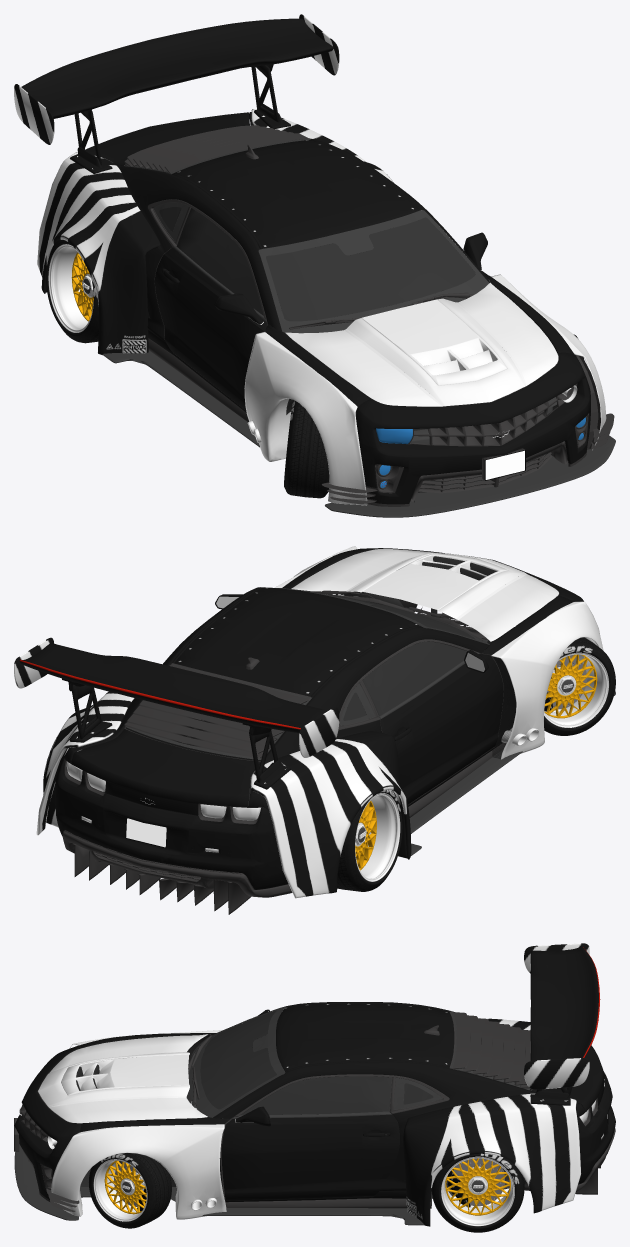
File: model.original.glb
3 renders of one model, top to bottom at view 1: azimuth 30°, elevation 25°; view 2: azimuth 150°, elevation 25°; view 3: azimuth 270°, elevation 25°, orthographic. The views are drawn at different scales.
Visible parts, largest first — view 1: _gltfNode_87, _gltfNode_85, _gltfNode_17, _gltfNode_16, _gltfNode_128, _gltfNode_2, _gltfNode_51, _gltfNode_50, _gltfNode_48, _gltfNode_154, _gltfNode_57, _gltfNode_110 (+15 smaller); view 2: _gltfNode_87, _gltfNode_16, _gltfNode_83, _gltfNode_17, _gltfNode_48, _gltfNode_44, _gltfNode_2, _gltfNode_50, _gltfNode_51, _gltfNode_116, _gltfNode_132, _gltfNode_55 (+20 smaller); view 3: _gltfNode_87, _gltfNode_16, _gltfNode_46, _gltfNode_2, _gltfNode_17, _gltfNode_51, _gltfNode_50, _gltfNode_128, _gltfNode_85, _gltfNode_126, _gltfNode_116, _gltfNode_83 (+16 smaller).
Boxes of the visible parts, x1,y1,x2,y2 form: _gltfNode_87: (119,138,489,412); _gltfNode_85: (265,274,590,504); _gltfNode_17: (21,18,333,173); _gltfNode_16: (37,109,393,355); _gltfNode_128: (159,207,475,321); _gltfNode_2: (244,274,606,505); _gltfNode_51: (346,298,525,406); _gltfNode_50: (285,282,558,406); _gltfNode_48: (154,247,267,410); _gltfNode_154: (102,350,615,517); _gltfNode_57: (367,360,588,506); _gltfNode_110: (153,202,488,334); _gltfNode_87: (119,587,494,806); _gltfNode_16: (36,691,411,898); _gltfNode_83: (55,698,382,889); _gltfNode_17: (19,643,328,789); _gltfNode_48: (380,653,503,804); _gltfNode_44: (71,727,260,814); _gltfNode_2: (274,546,603,759); _gltfNode_50: (291,549,558,641); _gltfNode_51: (348,553,525,618); _gltfNode_116: (124,664,309,758); _gltfNode_132: (362,641,466,716); _gltfNode_55: (62,830,292,897); _gltfNode_87: (212,1002,532,1202); _gltfNode_16: (403,1018,581,1226); _gltfNode_46: (221,1114,399,1200); _gltfNode_2: (51,1030,226,1219); _gltfNode_17: (530,946,598,1105); _gltfNode_51: (38,1052,189,1106); _gltfNode_50: (49,1034,207,1123); _gltfNode_128: (200,1010,433,1109); _gltfNode_85: (14,1033,230,1199); _gltfNode_126: (240,1076,391,1115); _gltfNode_116: (450,1012,530,1088); _gltfNode_83: (370,1071,615,1198).
Size of the model in its own units: 2.49 by 1.56 by 4.84.
Materials: 31 (8 with a texture image).
